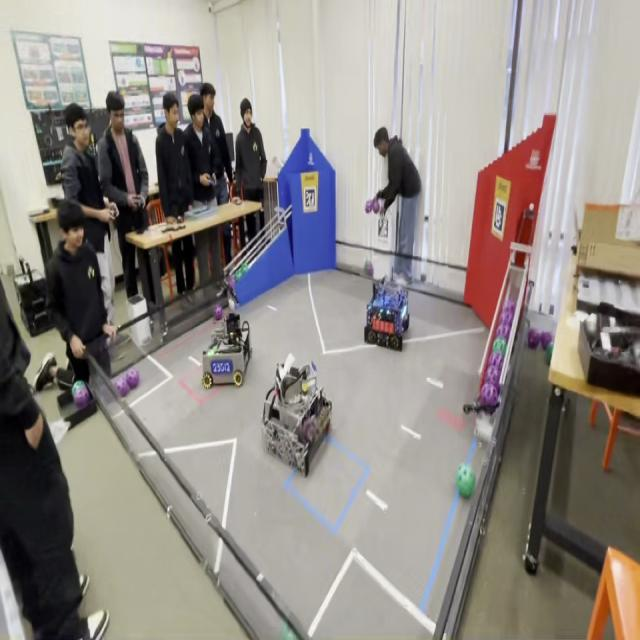artifact_green: (456, 464, 475, 498), (114, 376, 129, 397), (492, 338, 507, 356), (280, 624, 297, 639), (540, 331, 553, 349), (72, 381, 85, 395), (372, 198, 383, 213), (546, 343, 553, 365), (236, 264, 247, 278), (364, 260, 373, 277), (214, 304, 223, 321), (235, 267, 243, 283), (207, 347, 217, 357), (228, 298, 235, 312), (236, 264, 243, 277), (242, 264, 248, 274), (242, 265, 247, 275), (242, 262, 247, 270), (244, 268, 247, 276)
artifact_purple: (480, 383, 499, 406), (302, 416, 318, 443), (74, 387, 90, 408), (484, 367, 501, 386), (115, 376, 129, 397), (126, 368, 139, 389), (488, 351, 503, 369), (528, 329, 540, 349), (540, 331, 553, 349), (496, 324, 510, 340), (499, 310, 513, 325), (503, 299, 515, 314), (214, 305, 223, 321), (365, 260, 373, 277), (373, 198, 381, 213), (228, 275, 235, 290), (365, 201, 373, 214)
